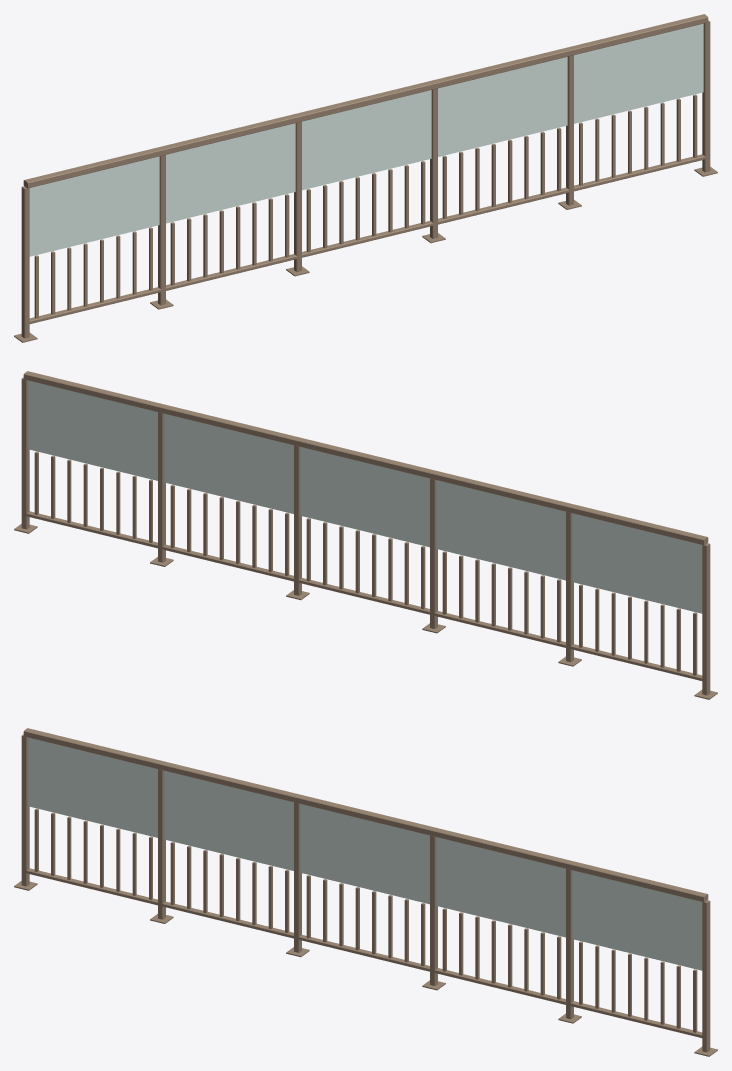
The model's file is gc-s80b-mixte-500-quartz-1019.glb.
3 views of the same model, one above another, from view 1: azimuth 30°, elevation 25°; view 2: azimuth 150°, elevation 25°; view 3: azimuth 330°, elevation 25° (orthographic).
Visible parts, largest first — view 1: verre, structure; view 2: verre, structure; view 3: verre, structure.
Boxes of the visible parts, left/top/right/bottom form: verre: left=29, top=23, right=703, bottom=256; structure: left=14, top=14, right=717, bottom=342; verre: left=28, top=380, right=702, bottom=613; structure: left=14, top=371, right=717, bottom=699; verre: left=28, top=737, right=702, bottom=970; structure: left=14, top=728, right=717, bottom=1056.
Bounding box in the file's own units: 5.11 × 1.1 × 0.11.
